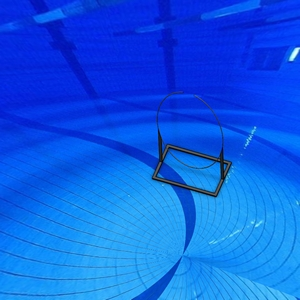circle: (151, 90, 233, 199)
